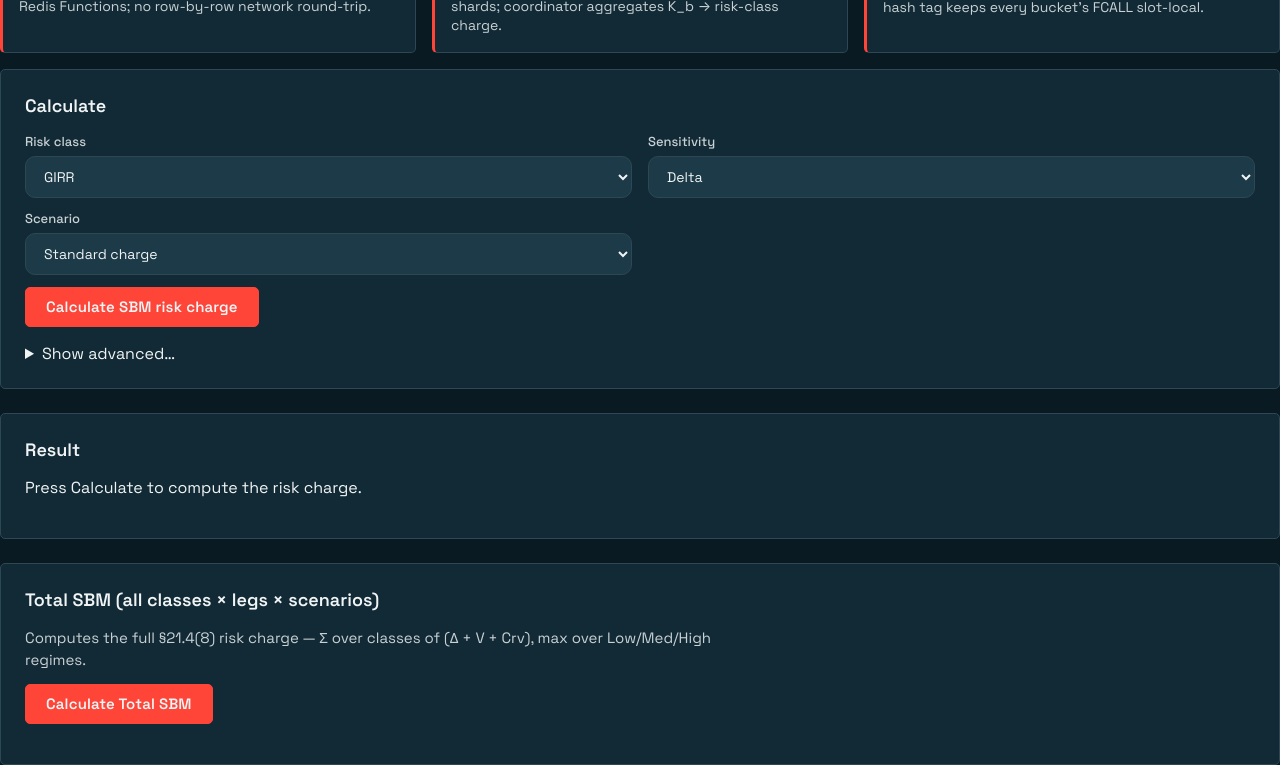
<CalcPanel /> — Total SBM card (Wave 5.96B) › on click, fetches /calc/sbm/total and renders charge, parallelism factor and scenario columns
(page scrolled)
Click the button with test id "calc-total-cta" at (119, 704), box [25,684,213,724]
(page scrolled)
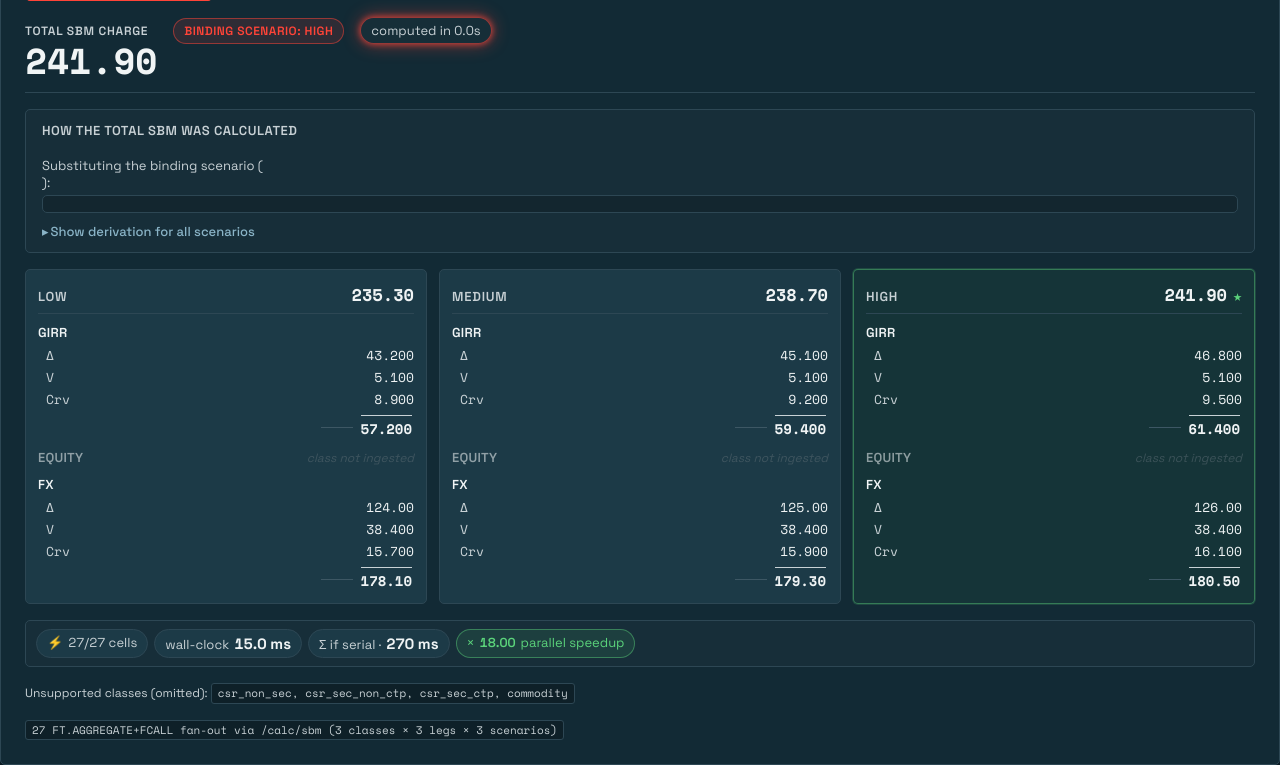
Check: the element with test id "calc-total-result" is shown
Check: the element with test id "calc-total-performance" shows "wall-clock", box [165,636,229,653]
Check: the element with test id "calc-total-performance" reads "⚡ 27/27 cells wall-clock 15.0 ms Σ if serial · 270 ms × 18.00 parallel speedup", box [25,620,1255,667]
